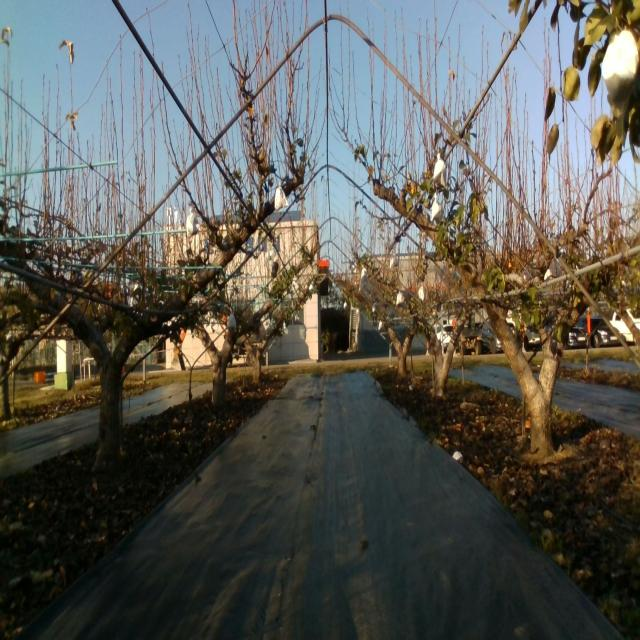pearbags: (601, 31, 640, 107), (433, 152, 447, 188), (185, 208, 200, 238), (430, 192, 442, 222), (275, 184, 288, 210)
